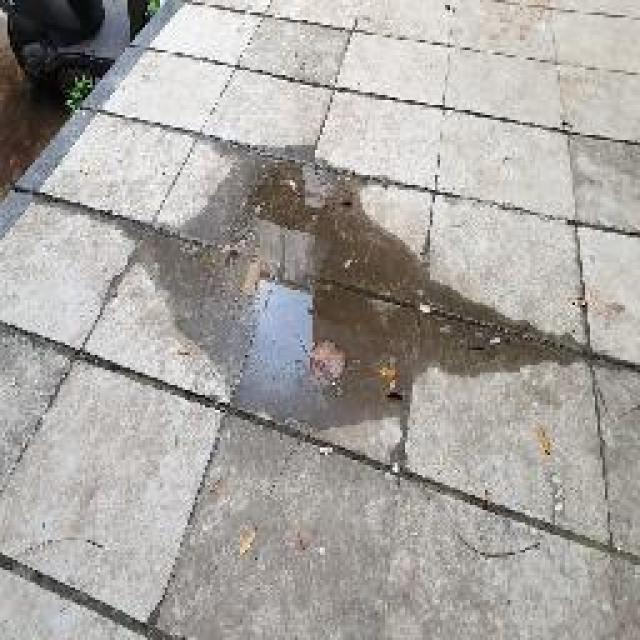puddle: (216, 161, 409, 397)
